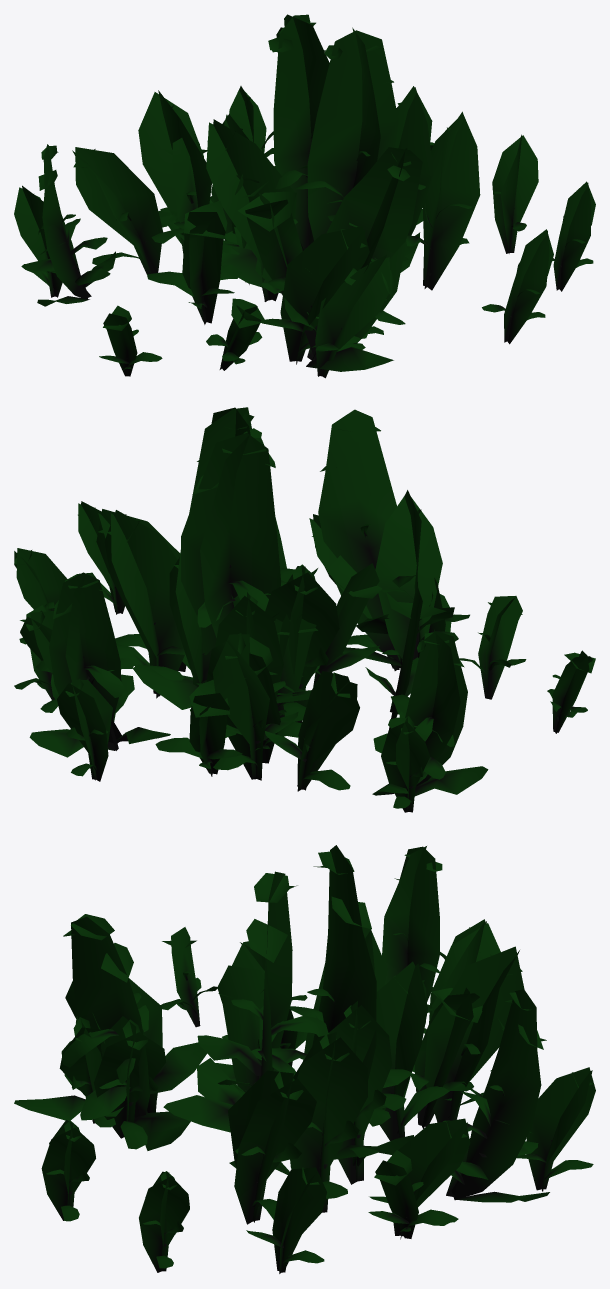
The model's file is FlowersWhiteGCATA_J.fbx.
3 views of the same model, one above another, from view 1: azimuth 30°, elevation 25°; view 2: azimuth 150°, elevation 25°; view 3: azimuth 270°, elevation 25° (orthographic). The views are drawn at different scales.
Parts seen in each view (by area): view 1: FWGCATAJ_LOD0; view 2: FWGCATAJ_LOD0; view 3: FWGCATAJ_LOD0.
Boxes of the visible parts, left/top/right/bottom form: FWGCATAJ_LOD0: left=14, top=14, right=595, bottom=378; FWGCATAJ_LOD0: left=14, top=407, right=595, bottom=812; FWGCATAJ_LOD0: left=14, top=845, right=595, bottom=1273.
Size of what is drawn, in the model's own units: 1.69 by 0.9112 by 1.49.
